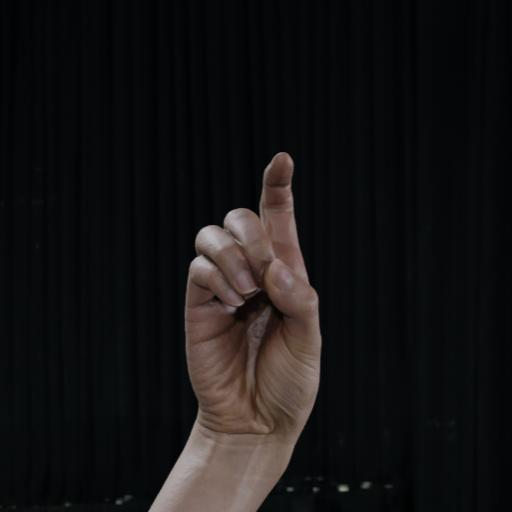X: (181, 149, 327, 445)
